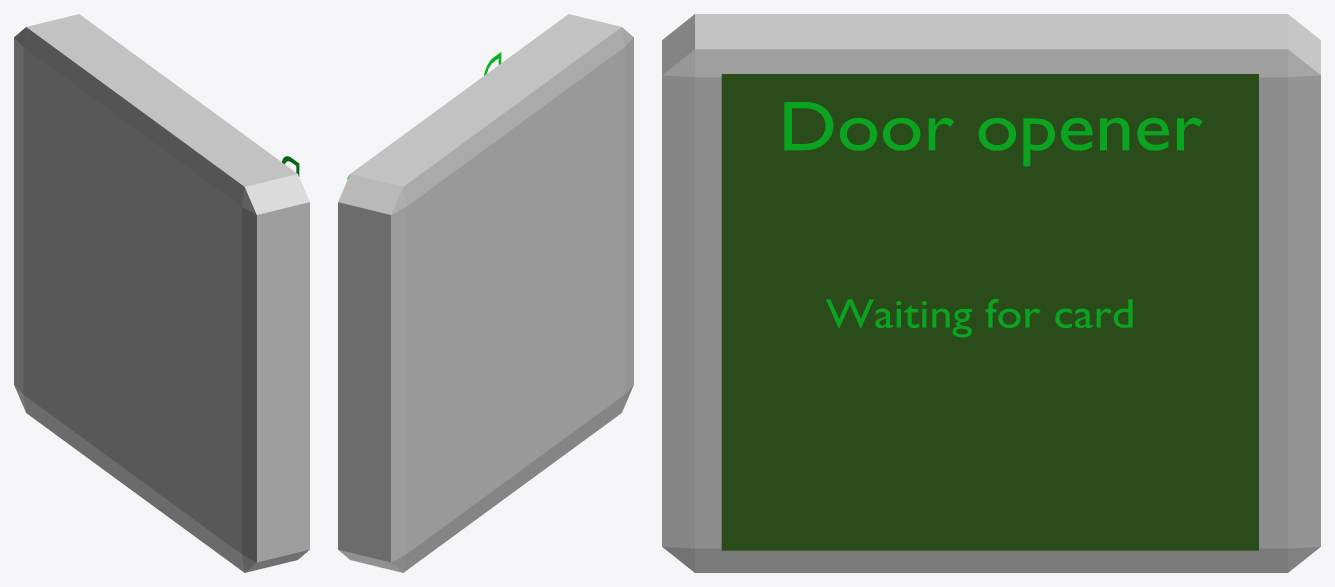
The model's file is cardlector.fbx.
3 views of the same model, side by side, from view 1: azimuth 30°, elevation 25°; view 2: azimuth 150°, elevation 25°; view 3: azimuth 270°, elevation 25° (orthographic). The views are drawn at different scales.
Parts seen in each view (by area): view 1: Cube; view 2: Cube; view 3: Plane, Cube, Text, Text.001.
Boxes of the visible parts, bbox=[...] form: Cube: bbox=[14, 14, 309, 572]; Cube: bbox=[338, 14, 633, 572]; Plane: bbox=[721, 74, 1258, 550]; Cube: bbox=[662, 14, 1320, 572]; Text: bbox=[784, 102, 1202, 166]; Text.001: bbox=[826, 298, 1132, 337].
Bounding box in the file's own units: 49.05 × 200 × 228.
